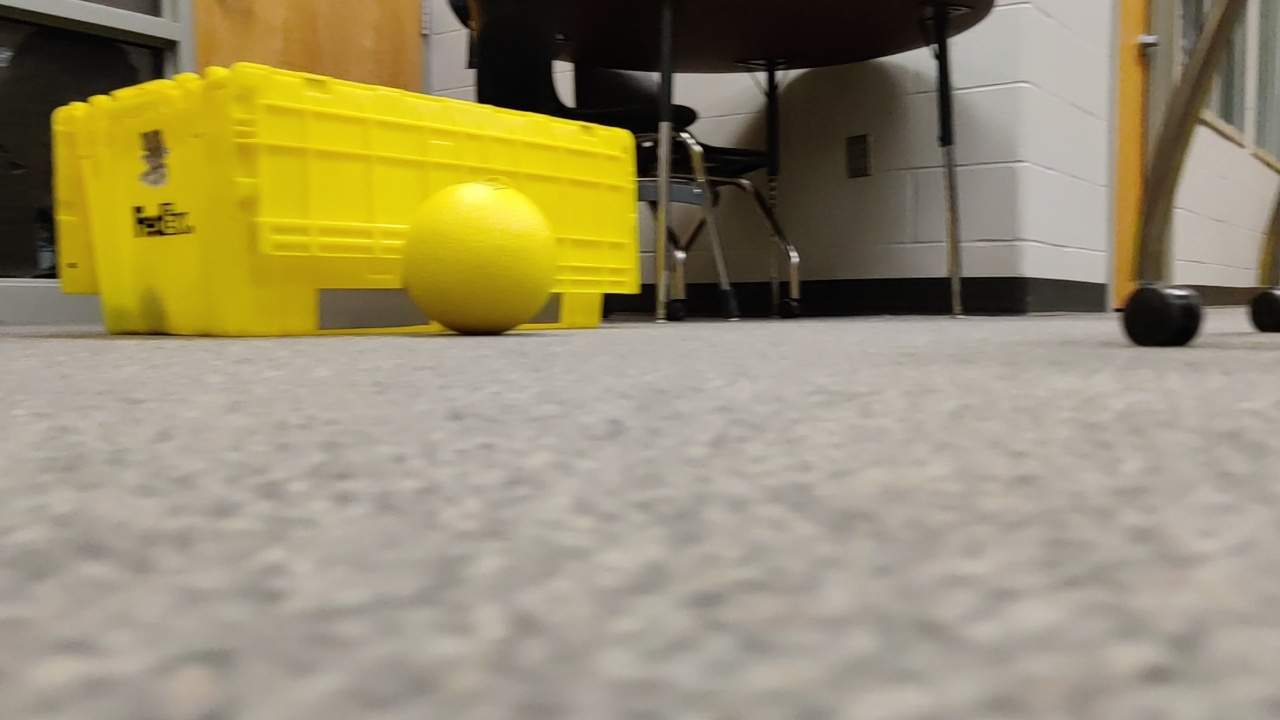Ball: (401, 179, 556, 337)
